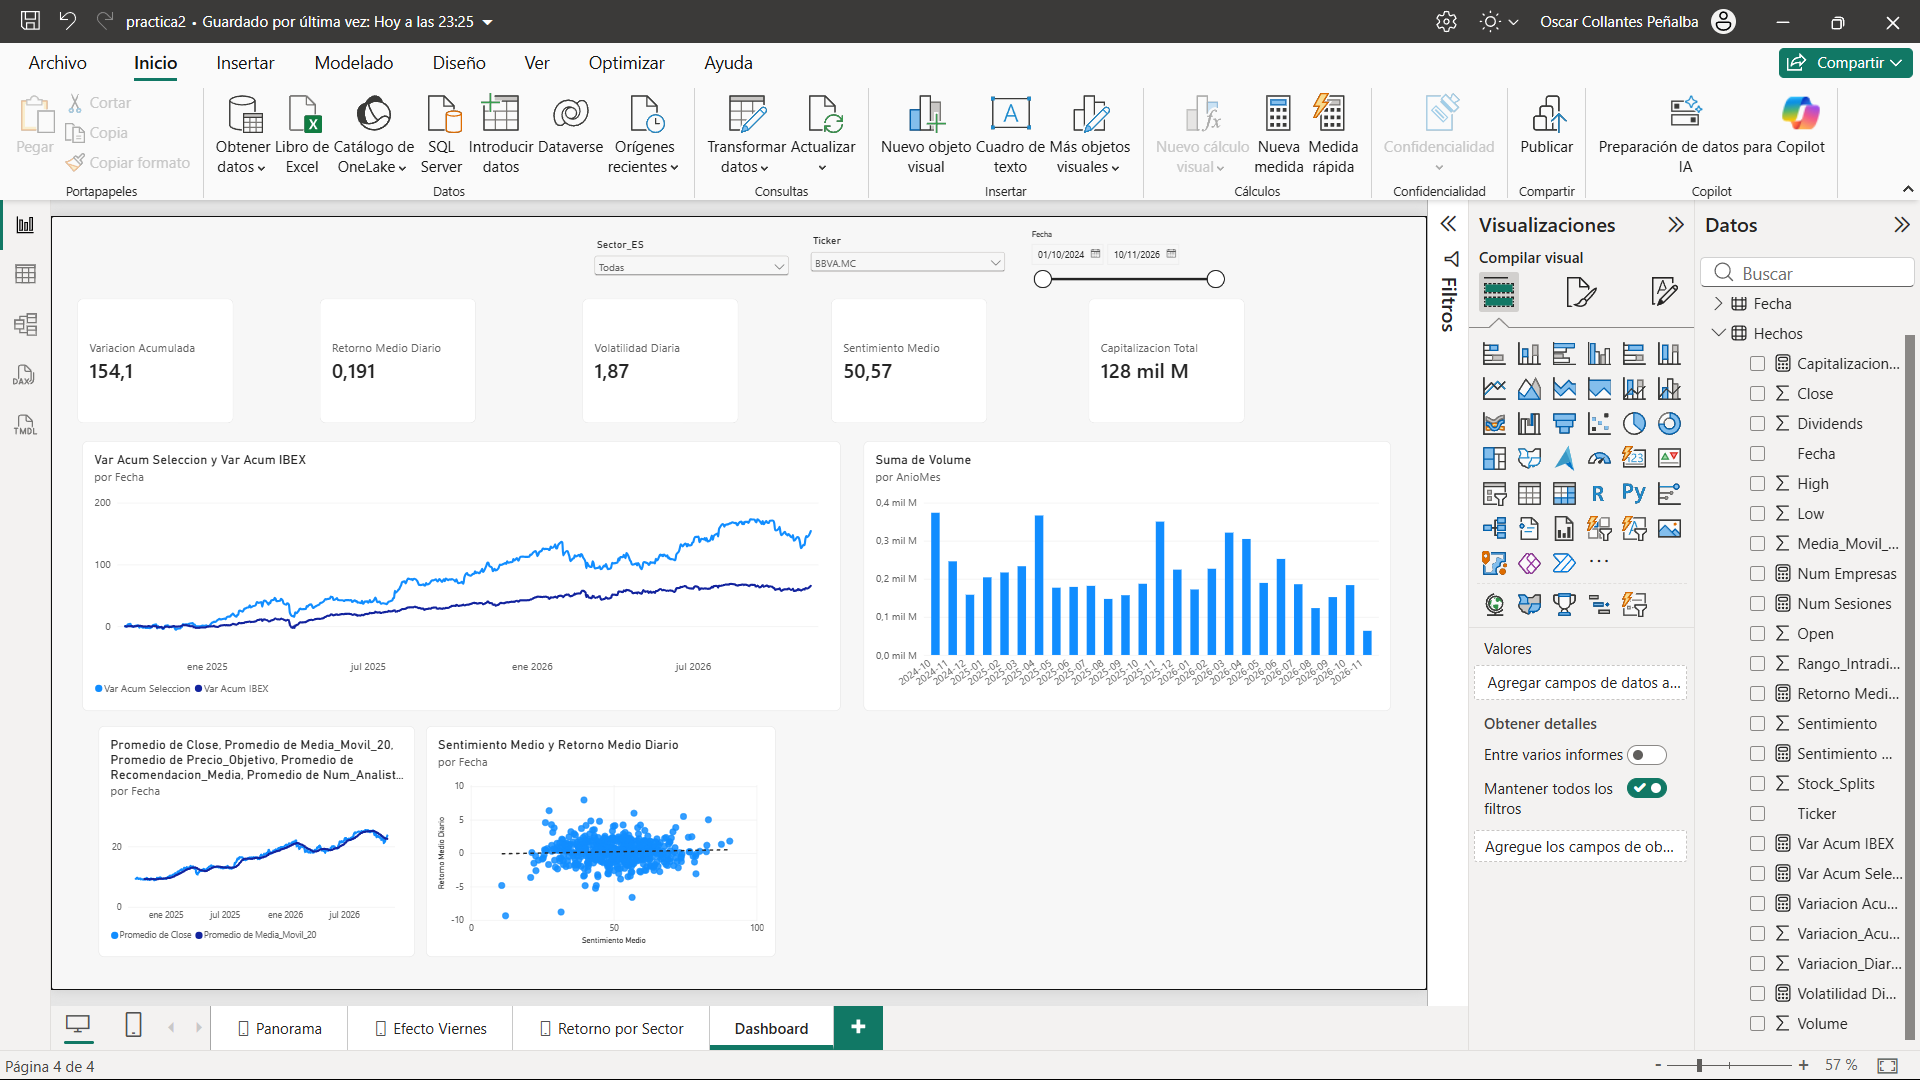

This screenshot's page, from the dashboard's own definition file:
{"tool":"powerbi","page":{"name":"Dashboard","canvas":[1920,1080],"ordinal":3},"visuals":[{"type":"slicer","fields":{"Values":["Empresa.Sector_ES"]},"box":[753.5,31.4,280.8,68],"z":0},{"type":"slicer","fields":{"Values":["Empresa.Ticker"]},"box":[1055.2,26.2,280.8,80.2],"z":1000},{"type":"slicer","fields":{"Values":["Fecha.Fecha"]},"box":[1360.5,19.2,280.8,95.9],"z":2000},{"type":"cardVisual","fields":{"Data":["Hechos.Variacion Acumulada"]},"box":[36.6,115.1,218,174.4],"z":3000},{"type":"cardVisual","fields":{"Data":["Hechos.Retorno Medio Diario"]},"box":[375,115.1,218,174.4],"z":4000},{"type":"cardVisual","fields":{"Data":["Hechos.Volatilidad Diaria"]},"box":[741.3,115.1,218,174.4],"z":5000},{"type":"cardVisual","fields":{"Data":["Hechos.Sentimiento Medio"]},"box":[1088.4,115.1,218,174.4],"z":6000},{"type":"cardVisual","fields":{"Data":["Hechos.Capitalizacion Total"]},"box":[1447.7,115.1,218,174.4],"z":7000},{"type":"lineChart","fields":{"Category":["Fecha.Fecha"],"Y":["Hechos.Var Acum Seleccion","Hechos.Var Acum IBEX"]},"box":[43.6,314,1058.7,376.7],"z":8000},{"type":"clusteredColumnChart","fields":{"Category":["Fecha.AnioMes"],"Y":["Sum(Hechos.Volume)"]},"box":[1133.7,314,736,376.7],"z":9000},{"type":"lineChart","fields":{"Category":["Fecha.Fecha"],"Y":["Avg(Hechos.Close)","Avg(Hechos.Media_Movil_20)"]},"box":[66.3,711.6,395.9,322.7],"z":10000},{"type":"scatterChart","fields":{"Category":["Fecha.Fecha"],"X":["Hechos.Sentimiento Medio"],"Y":["Hechos.Retorno Medio Diario"]},"box":[462.2,711.6,444.8,322.7],"z":11000},{"type":"clusteredColumnChart","fields":{"Category":["Fecha.AnioMes"],"Y":["Hechos.Retorno Medio Diario"]},"box":[907,711.6,610.5,322.7],"z":12000},{"type":"donutChart","fields":{"Category":["Fecha.Trimestre"],"Y":["Sum(Hechos.Dividends)"]},"box":[1517.4,711.6,385.5,322.7],"z":13000},{"type":"cardVisual","fields":{"Data":["Hechos.Titulo Dashboard"]},"box":[66.3,19.2,556.4,75],"z":13001}]}

Visuals, with their boxes on the page's 1920x1080 design canvas (x1, y1, x2, y2). These are canvas units, not pixel positions in the 1920x1080 screenshot, which may show the page scaled, cropped or inside an application window:
slicer - Empresa.Sector_ES: l=754, t=31, r=1034, b=99
slicer - Empresa.Ticker: l=1055, t=26, r=1336, b=106
slicer - Fecha.Fecha: l=1360, t=19, r=1641, b=115
cardVisual - Hechos.Variacion Acumulada: l=37, t=115, r=255, b=290
cardVisual - Hechos.Retorno Medio Diario: l=375, t=115, r=593, b=290
cardVisual - Hechos.Volatilidad Diaria: l=741, t=115, r=959, b=290
cardVisual - Hechos.Sentimiento Medio: l=1088, t=115, r=1306, b=290
cardVisual - Hechos.Capitalizacion Total: l=1448, t=115, r=1666, b=290
lineChart - Fecha.Fecha x Hechos.Var Acum Seleccion: l=44, t=314, r=1102, b=691
clusteredColumnChart - Fecha.AnioMes x Sum(Hechos.Volume): l=1134, t=314, r=1870, b=691
lineChart - Fecha.Fecha x Avg(Hechos.Close): l=66, t=712, r=462, b=1034
scatterChart - Fecha.Fecha x Hechos.Sentimiento Medio: l=462, t=712, r=907, b=1034
clusteredColumnChart - Fecha.AnioMes x Hechos.Retorno Medio Diario: l=907, t=712, r=1518, b=1034
donutChart - Fecha.Trimestre x Sum(Hechos.Dividends): l=1517, t=712, r=1903, b=1034
cardVisual - Hechos.Titulo Dashboard: l=66, t=19, r=623, b=94
